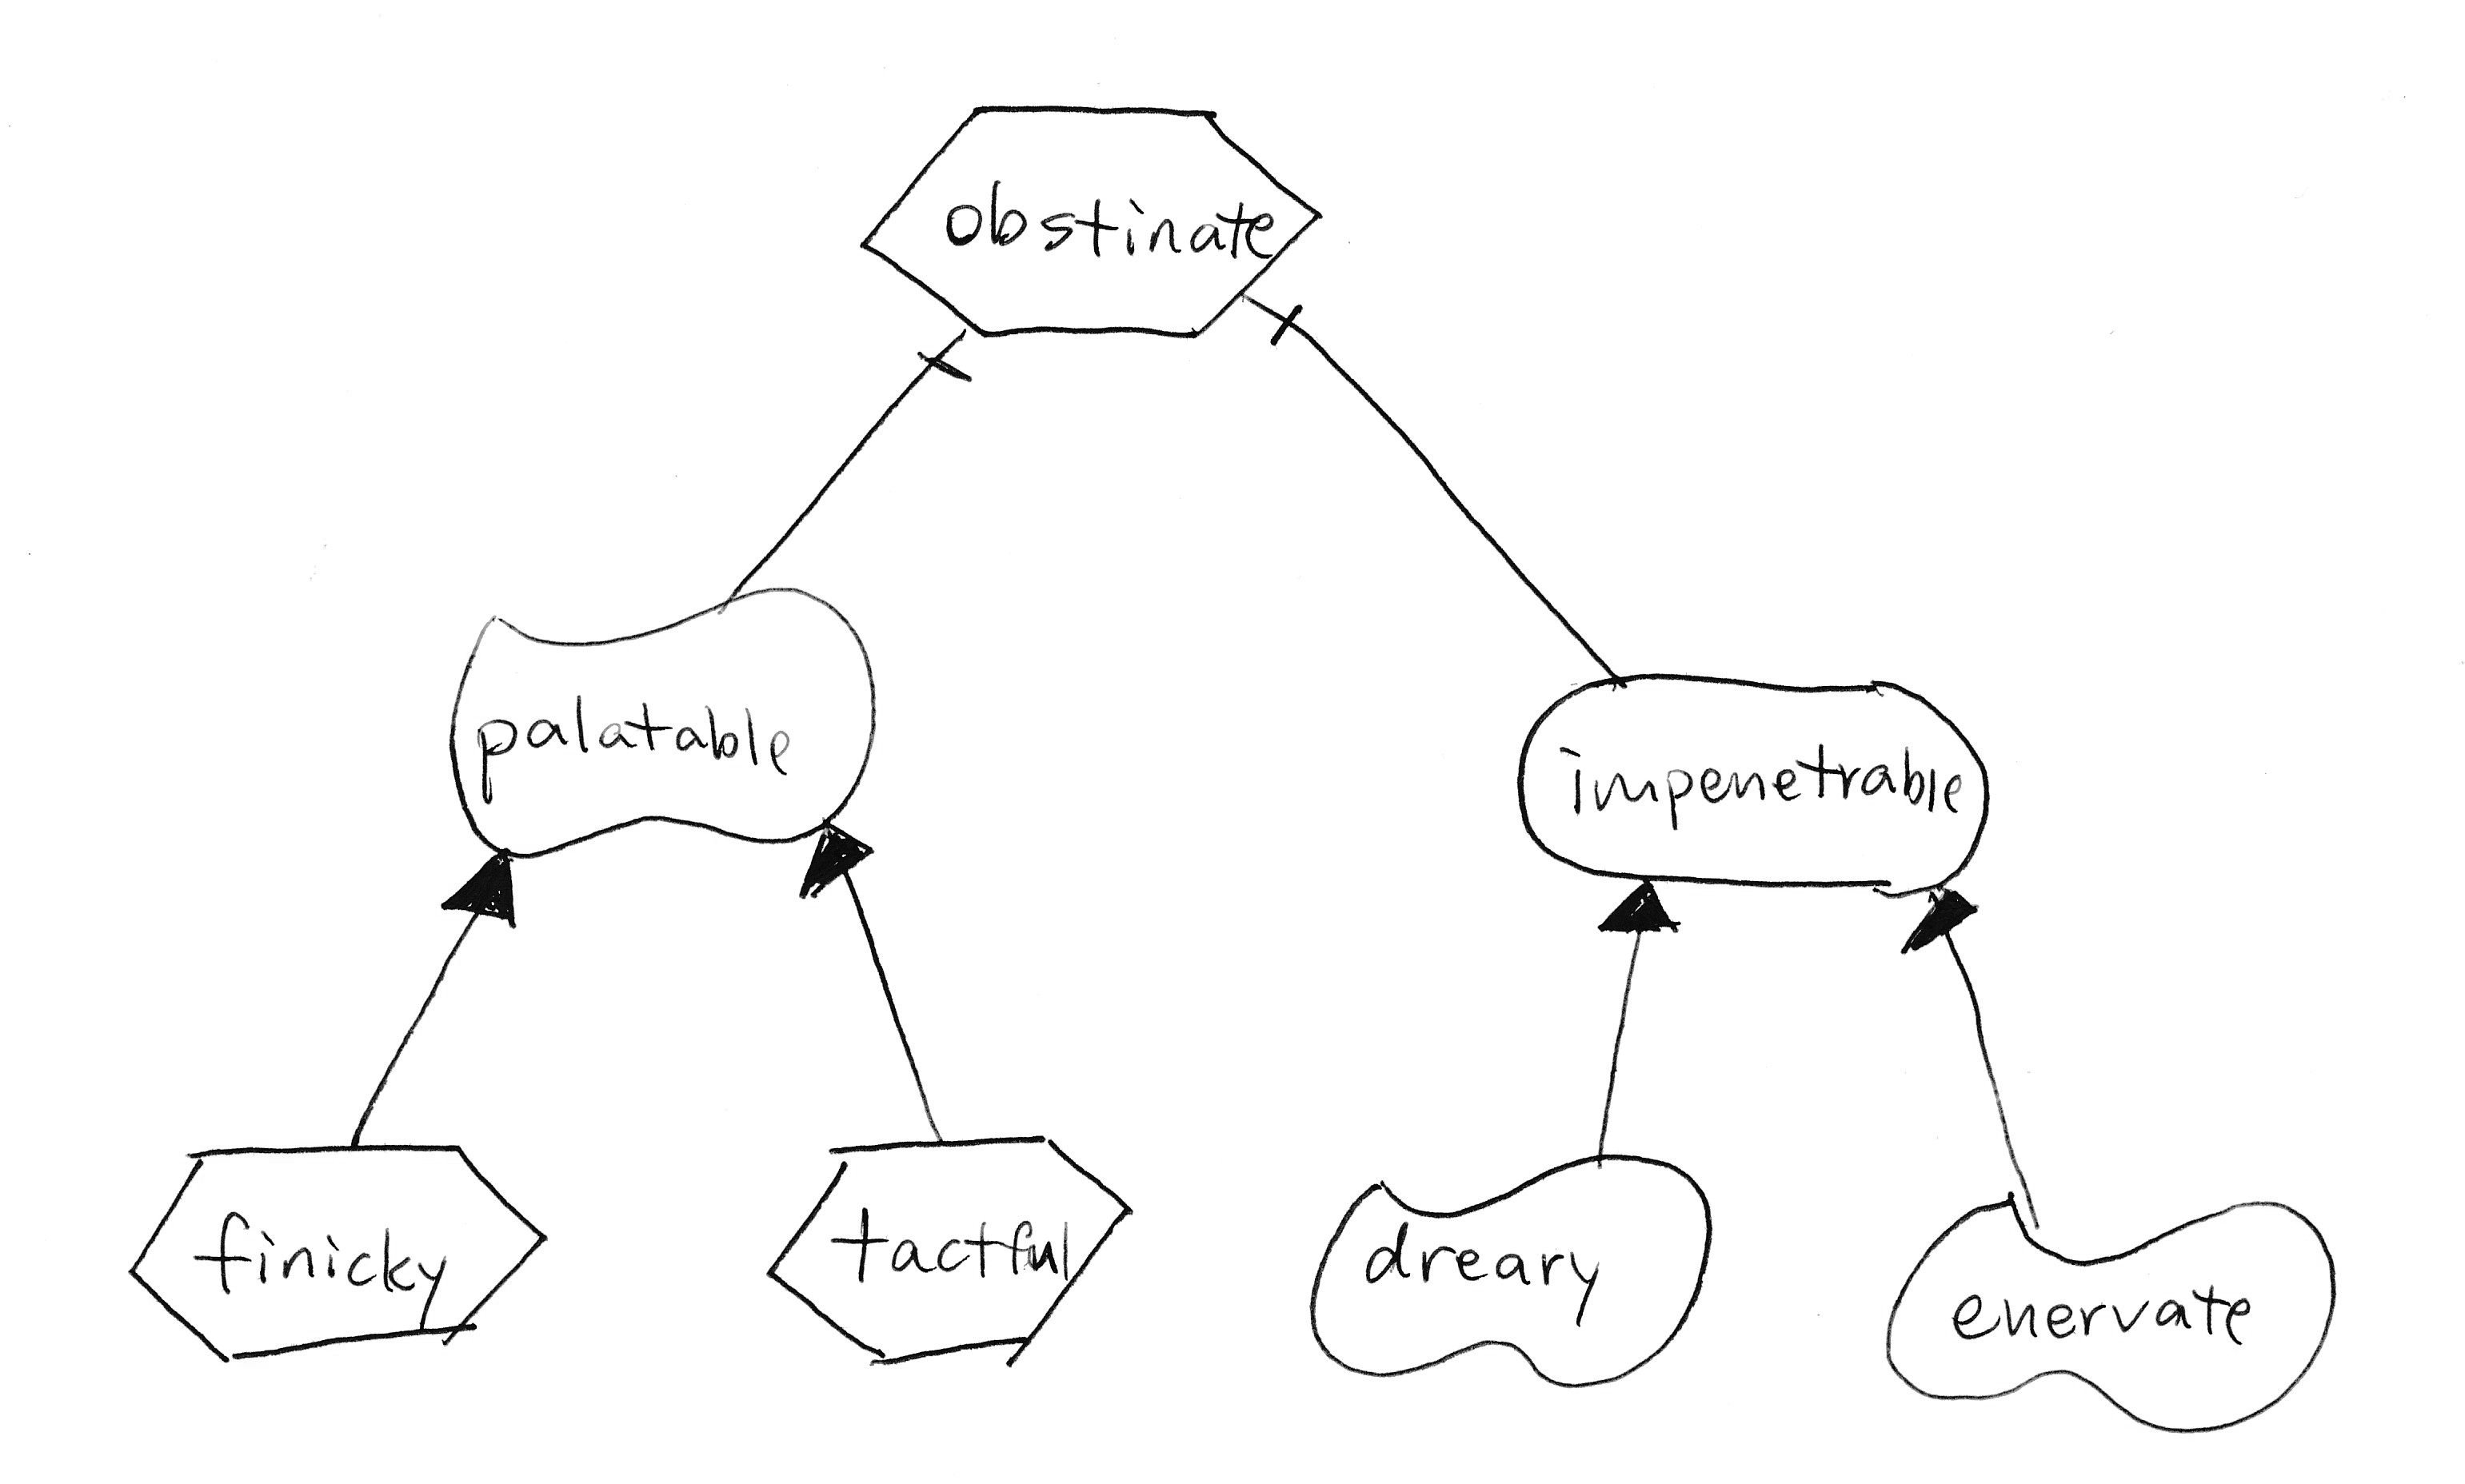and: (1222, 271, 1319, 366), (907, 306, 984, 410)
goal: (1493, 657, 2011, 924)
or: (1882, 866, 2009, 972), (419, 827, 537, 938), (778, 804, 882, 910), (1586, 856, 1681, 954)
quality: (423, 556, 909, 875), (1861, 1181, 2359, 1449), (1285, 1132, 1731, 1405)
task: (836, 70, 1338, 364), (100, 1113, 570, 1387), (752, 1114, 1153, 1384)
